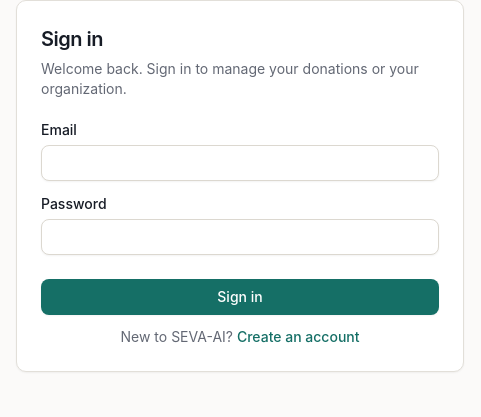
Test: LoginPage › rejects an invalid email address
Type "not-an-email" into the field labelled "Email" at (240, 163), box [41,145,439,181]
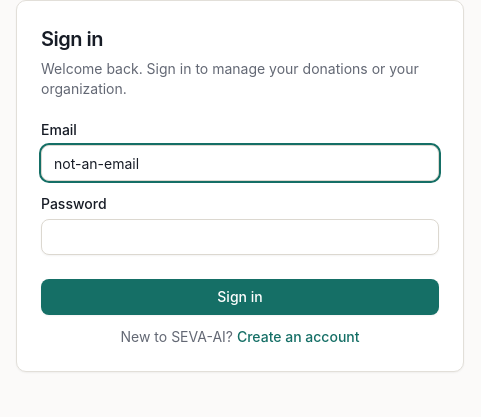
Type "Whatever123" into the password field labelled "Password" at (240, 237), box [41,219,439,255]
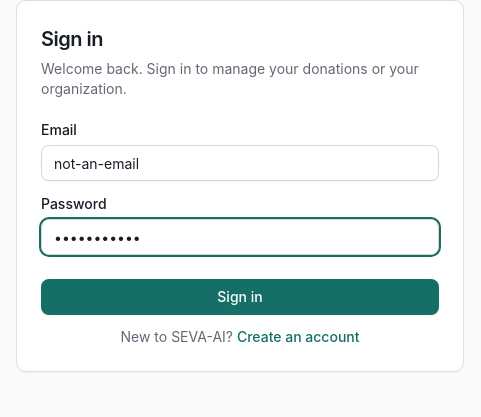
Click the button "Sign in" at (240, 297), box [41,279,439,315]
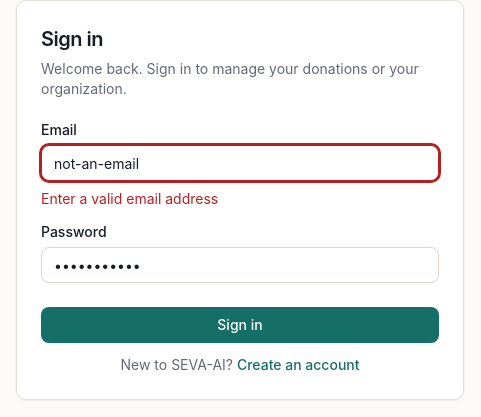
Expected: the text "Enter a valid email address" is shown, [41,190,218,207]
